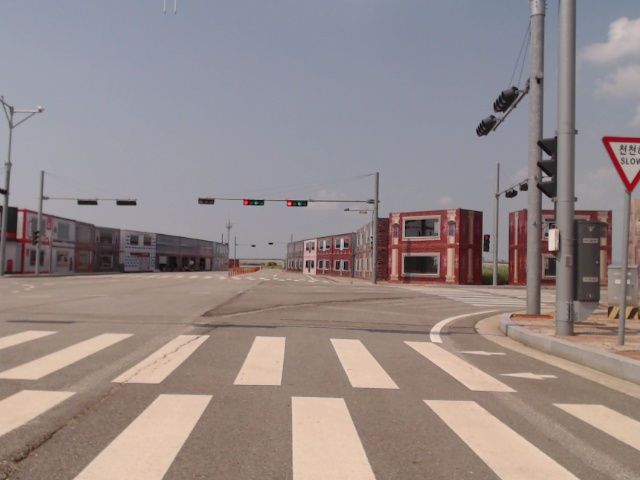left_green_4: (287, 200, 308, 206), (244, 200, 263, 206)
